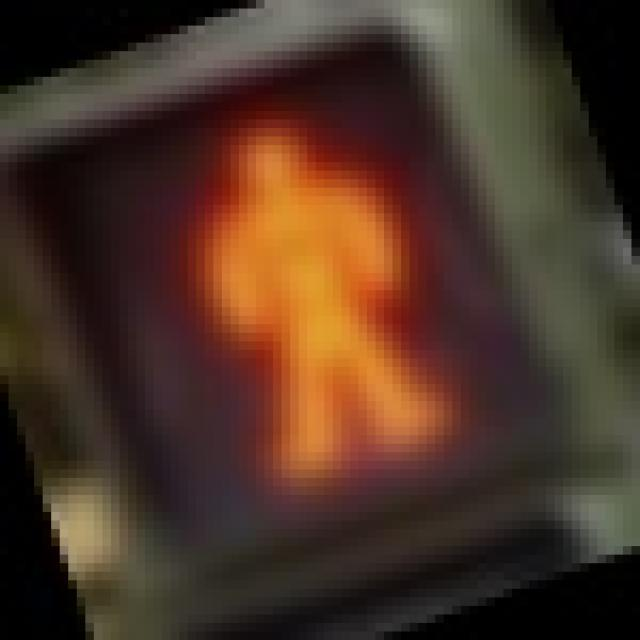red-crossing: (121, 70, 496, 548)
